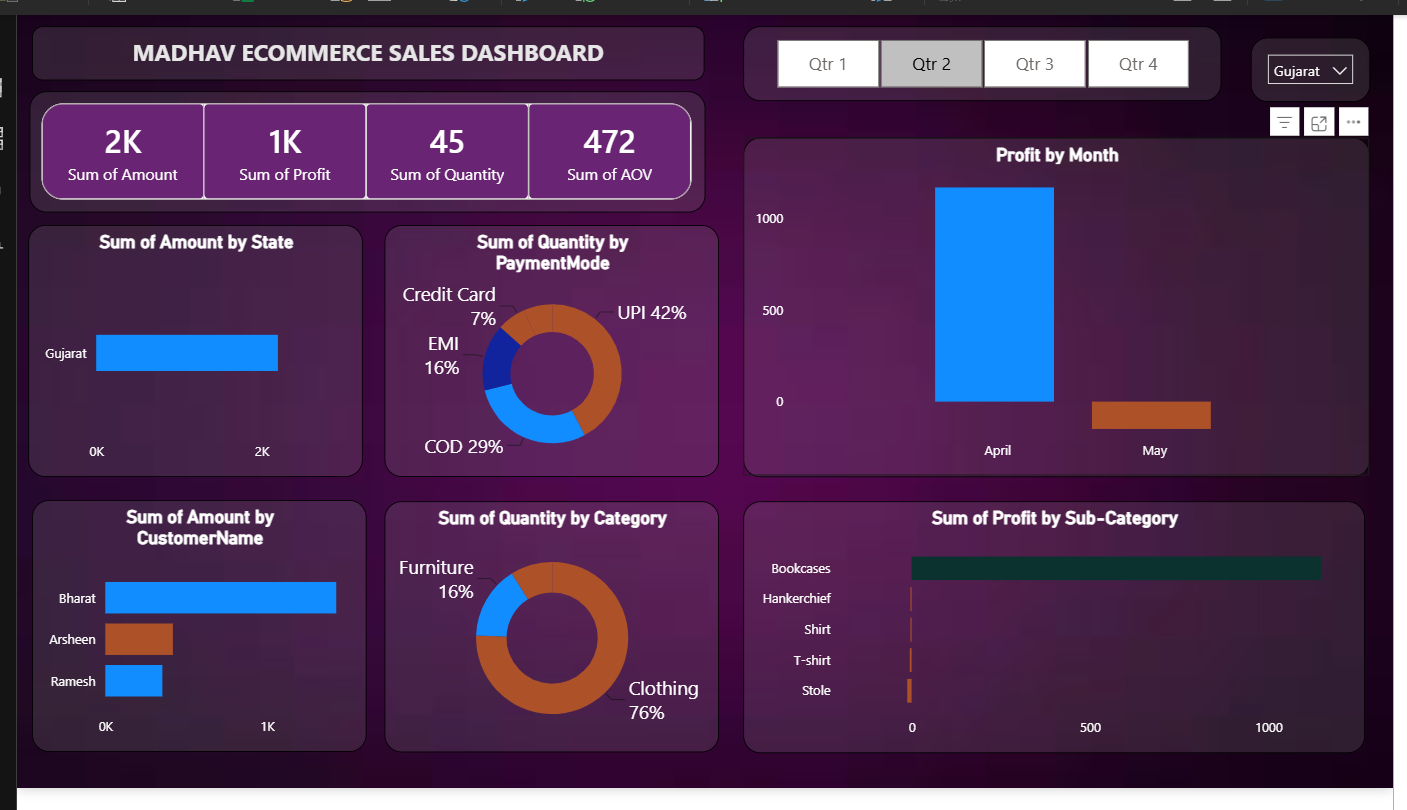

This screenshot's page, from the dashboard's own definition file:
{"tool":"powerbi","page":{"name":"Page 1","canvas":[1280,720],"ordinal":0},"visuals":[{"type":"textbox","box":[13.7,11,625.7,50.8],"z":0},{"type":"columnChart","title":"Profit by Month","fields":{"Category":["Orders.Order Date.Variation.Date Hierarchy.Month"],"Y":["Sum(Details.Profit)"]},"box":[675.1,113.9,583.2,315.6],"z":1000},{"type":"barChart","fields":{"Y":["Sum(Details.Profit)"],"Category":["Details.Sub-Category"]},"box":[675.7,452.9,578.6,234.3],"z":2000},{"type":"donutChart","fields":{"Category":["Details.Category"],"Y":["Sum(Details.Quantity)"]},"box":[341.7,452.8,311.5,233.3],"z":3000},{"type":"donutChart","fields":{"Y":["Sum(Details.Quantity)"],"Category":["Details.PaymentMode"]},"box":[341.7,194.9,311.5,234.6],"z":4000},{"type":"cardVisual","fields":{"Data":["Sum(Details.Amount)","Sum(Details.Profit)","Sum(Details.Quantity)","Sum(Details.AOV)"]},"box":[11.4,71.4,628.6,112.9],"z":5000},{"type":"barChart","fields":{"Y":["Sum(Details.Amount)"],"Category":["Orders.State"]},"box":[11,194.9,311.5,234.6],"z":6000},{"type":"barChart","fields":{"Category":["Orders.CustomerName"],"Y":["Sum(Details.Amount)"]},"box":[13.7,451.5,311.5,234.6],"z":7000},{"type":"slicer","fields":{"Values":["Orders.Order Date.Variation.Date Hierarchy.Quarter"]},"box":[675.1,11,444.6,70],"z":8000},{"type":"slicer","fields":{"Values":["Orders.State"]},"box":[1147.2,20.6,111.1,60.4],"z":9000}]}

Visuals, with their boxes in screenshot pixels (x1, y1, x2, y2), scaled from the page's 1280x720 canvas onto the 1407x810 screenshot:
textbox: left=15, top=12, right=703, bottom=70
"Profit by Month" columnChart: left=742, top=128, right=1383, bottom=483
barChart - Sum(Details.Profit) x Details.Sub-Category: left=743, top=510, right=1379, bottom=773
donutChart - Details.Category x Sum(Details.Quantity): left=376, top=509, right=718, bottom=772
donutChart - Sum(Details.Quantity) x Details.PaymentMode: left=376, top=219, right=718, bottom=483
cardVisual - Sum(Details.Amount) x Sum(Details.Profit): left=13, top=80, right=704, bottom=207
barChart - Sum(Details.Amount) x Orders.State: left=12, top=219, right=354, bottom=483
barChart - Orders.CustomerName x Sum(Details.Amount): left=15, top=508, right=357, bottom=772
slicer - Orders.Order Date.Variation.Date Hierarchy.Quarter: left=742, top=12, right=1231, bottom=91
slicer - Orders.State: left=1261, top=23, right=1383, bottom=91
